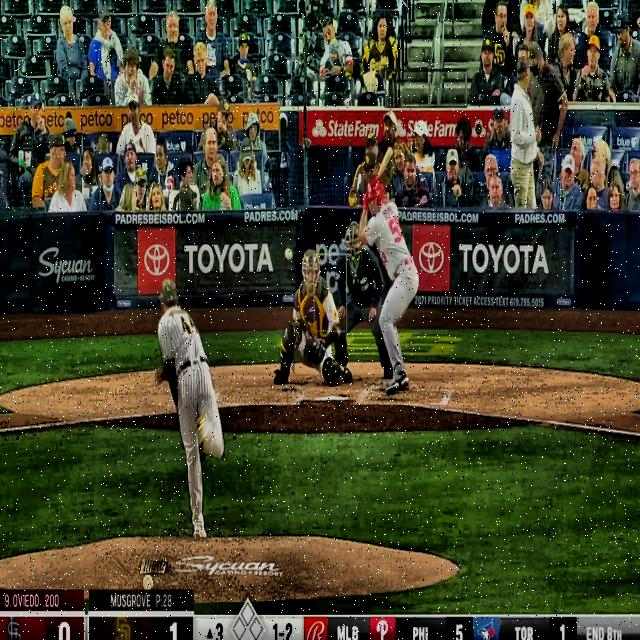baseball: (284, 247, 293, 261)
